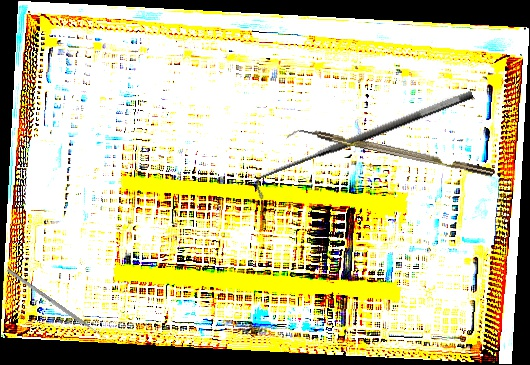Chopper: (286, 122, 494, 187)
Hook Surgical: (249, 87, 481, 201)
Pusher: (6, 268, 112, 344)
